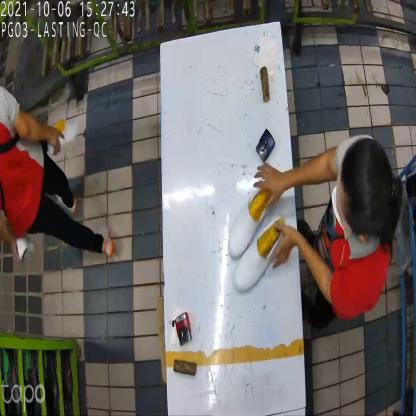shoes: (229, 187, 288, 289)
stamp: (172, 314, 196, 346), (256, 129, 276, 162)
